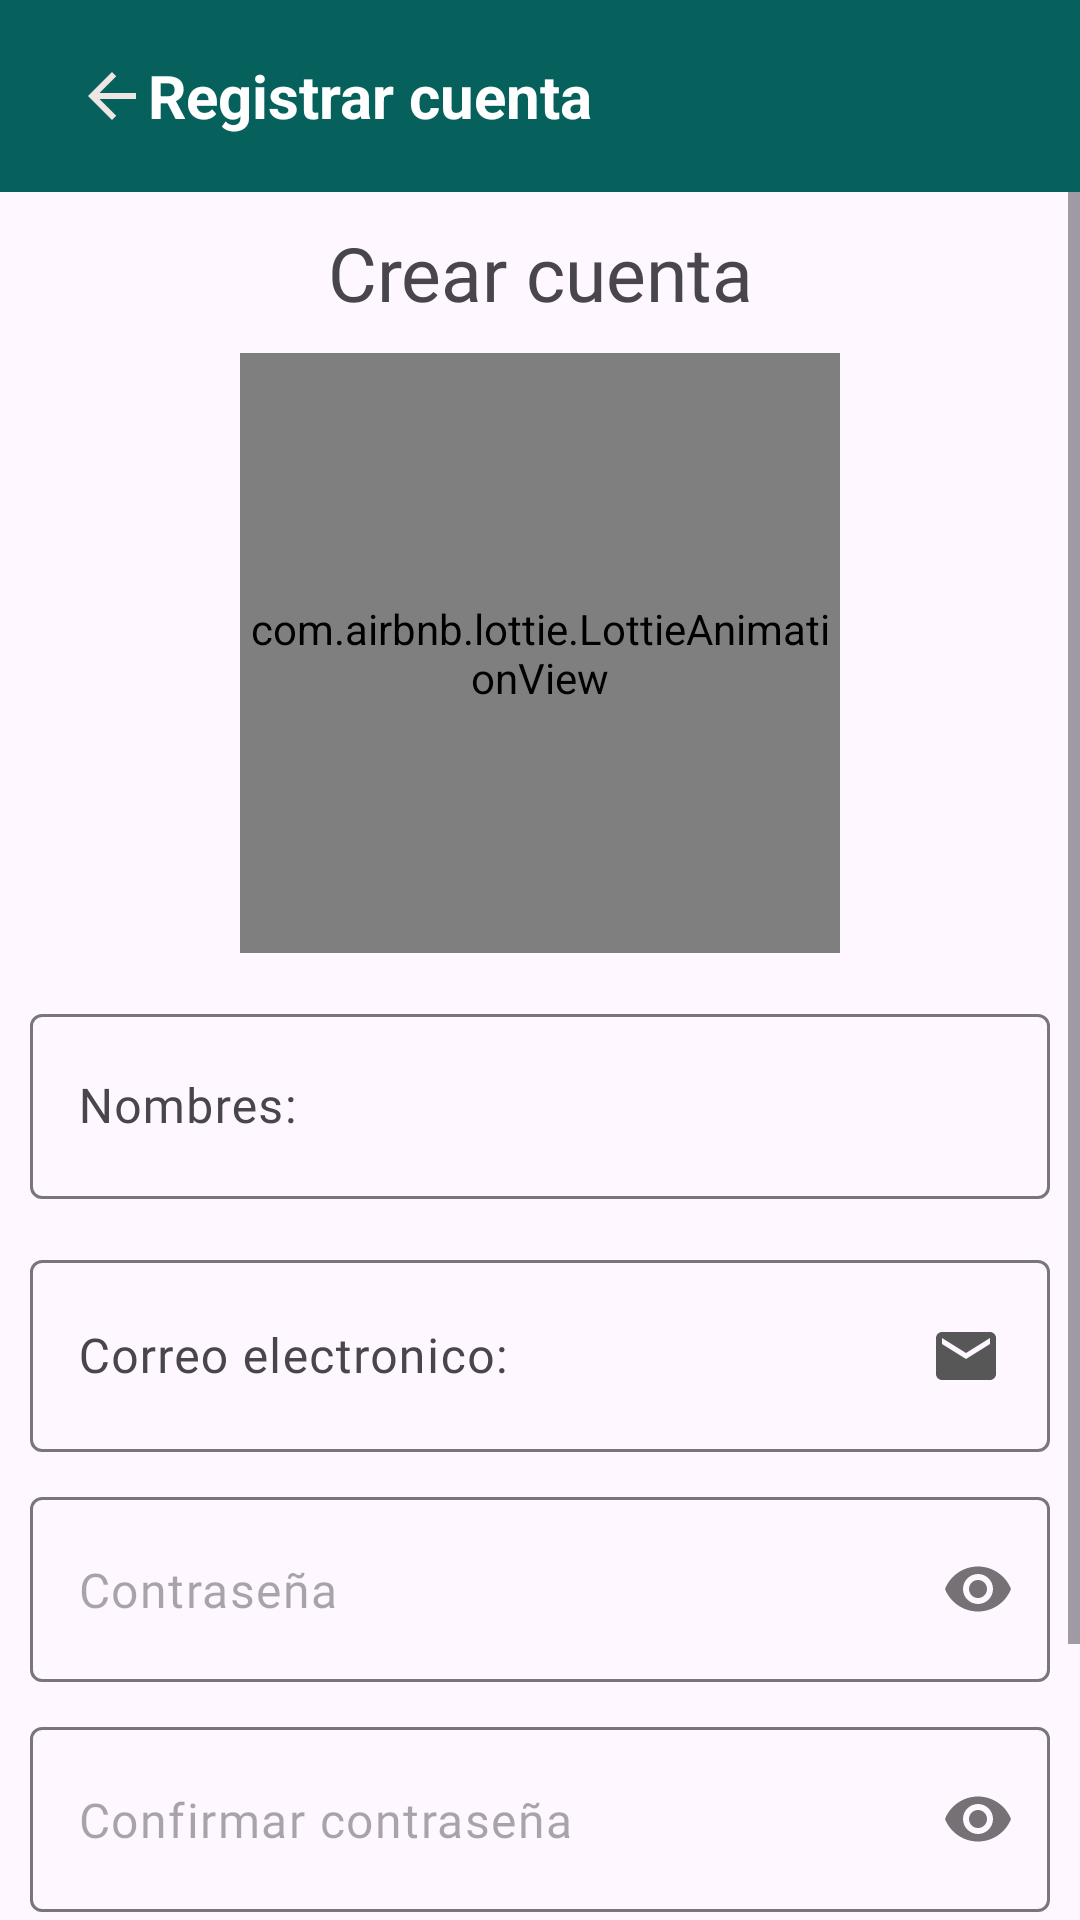

Screen size 1080 × 1920. Icon name, then its box in pixels as (x1=x1, y1=y1, x2=x2, y2=y2):
flecha izquierda: (x1=88, y1=72, x2=136, y2=120)
